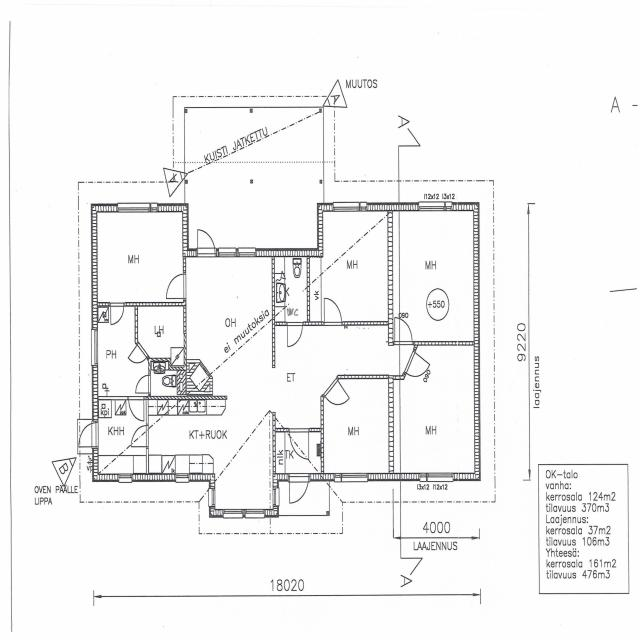door: (323, 378, 349, 414), (404, 350, 429, 386), (290, 474, 308, 508), (74, 422, 98, 447), (198, 225, 215, 258), (128, 342, 148, 370), (290, 428, 308, 459), (324, 298, 342, 326), (166, 274, 186, 298), (395, 317, 412, 345), (128, 396, 144, 421), (131, 426, 148, 447), (288, 322, 302, 346), (110, 302, 124, 324), (136, 375, 150, 393)
